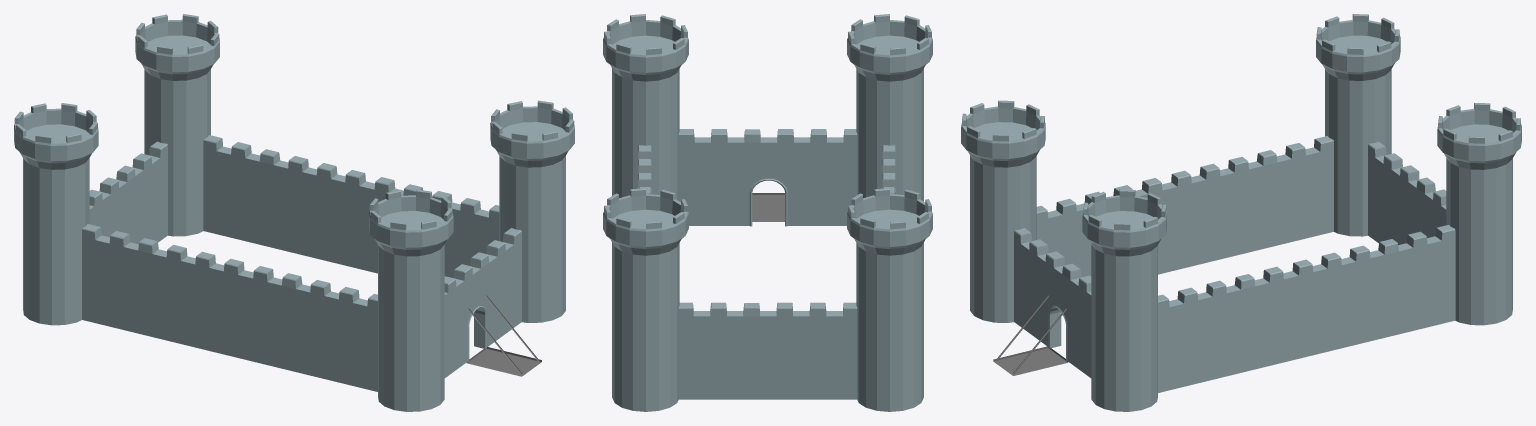
Rendered from Castle.glb.
3 views of the same model, side by side, from view 1: azimuth 30°, elevation 25°; view 2: azimuth 150°, elevation 25°; view 3: azimuth 270°, elevation 25° (orthographic).
Visible parts, largest first — view 1: LongWall_Cube.001, LongWall2_Cube.003, Tower_Cylinder, Tower3_Cylinder.002, Tower2_Cylinder.001, Tower4_Cylinder.003, Wall_Cube, Wall2_Cube.005, Elevator_Bridge_Cube.007; view 2: Wall2_Cube.005, Tower3_Cylinder.002, Tower4_Cylinder.003, Wall_Cube, Tower_Cylinder, Tower2_Cylinder.001, Elevator_Bridge_Cube.007, LongWall2_Cube.003, LongWall_Cube.001; view 3: LongWall2_Cube.003, LongWall_Cube.001, Tower2_Cylinder.001, Tower4_Cylinder.003, Tower_Cylinder, Tower3_Cylinder.002, Wall_Cube, Wall2_Cube.005, Elevator_Bridge_Cube.007.
Boxes of the visible parts, bbox=[...] form: LongWall_Cube.001: bbox=[82, 224, 377, 391]; LongWall2_Cube.003: bbox=[203, 135, 499, 277]; Tower_Cylinder: bbox=[369, 189, 453, 411]; Tower3_Cylinder.002: bbox=[14, 103, 98, 325]; Tower2_Cylinder.001: bbox=[490, 100, 574, 322]; Tower4_Cylinder.003: bbox=[135, 14, 219, 236]; Wall_Cube: bbox=[444, 228, 521, 377]; Wall2_Cube.005: bbox=[89, 141, 167, 244]; Elevator_Bridge_Cube.007: bbox=[466, 295, 541, 376]; Wall2_Cube.005: bbox=[678, 302, 857, 399]; Tower3_Cylinder.002: bbox=[847, 188, 932, 411]; Tower4_Cylinder.003: bbox=[603, 188, 688, 411]; Wall_Cube: bbox=[678, 129, 857, 226]; Tower_Cylinder: bbox=[847, 14, 932, 201]; Tower2_Cylinder.001: bbox=[603, 14, 688, 200]; Elevator_Bridge_Cube.007: bbox=[752, 193, 784, 221]; LongWall2_Cube.003: bbox=[638, 145, 651, 194]; LongWall_Cube.001: bbox=[882, 145, 895, 194]; LongWall2_Cube.003: bbox=[1158, 225, 1455, 392]; LongWall_Cube.001: bbox=[1036, 136, 1333, 277]; Tower2_Cylinder.001: bbox=[1082, 189, 1166, 411]; Tower4_Cylinder.003: bbox=[1437, 103, 1521, 325]; Tower_Cylinder: bbox=[961, 100, 1045, 322]; Tower3_Cylinder.002: bbox=[1316, 14, 1400, 236]; Wall_Cube: bbox=[1014, 228, 1091, 377]; Wall2_Cube.005: bbox=[1368, 141, 1446, 244]; Elevator_Bridge_Cube.007: bbox=[993, 295, 1068, 375].
Size of the model in its own units: 508 by 216 by 570.
